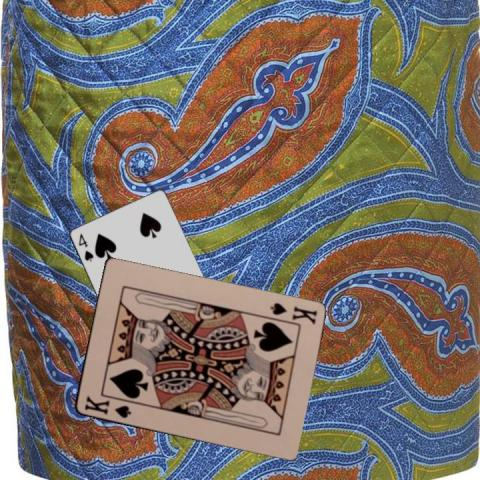4s: (75, 231, 95, 263)
Ks: (81, 393, 133, 420), (267, 300, 318, 326)
